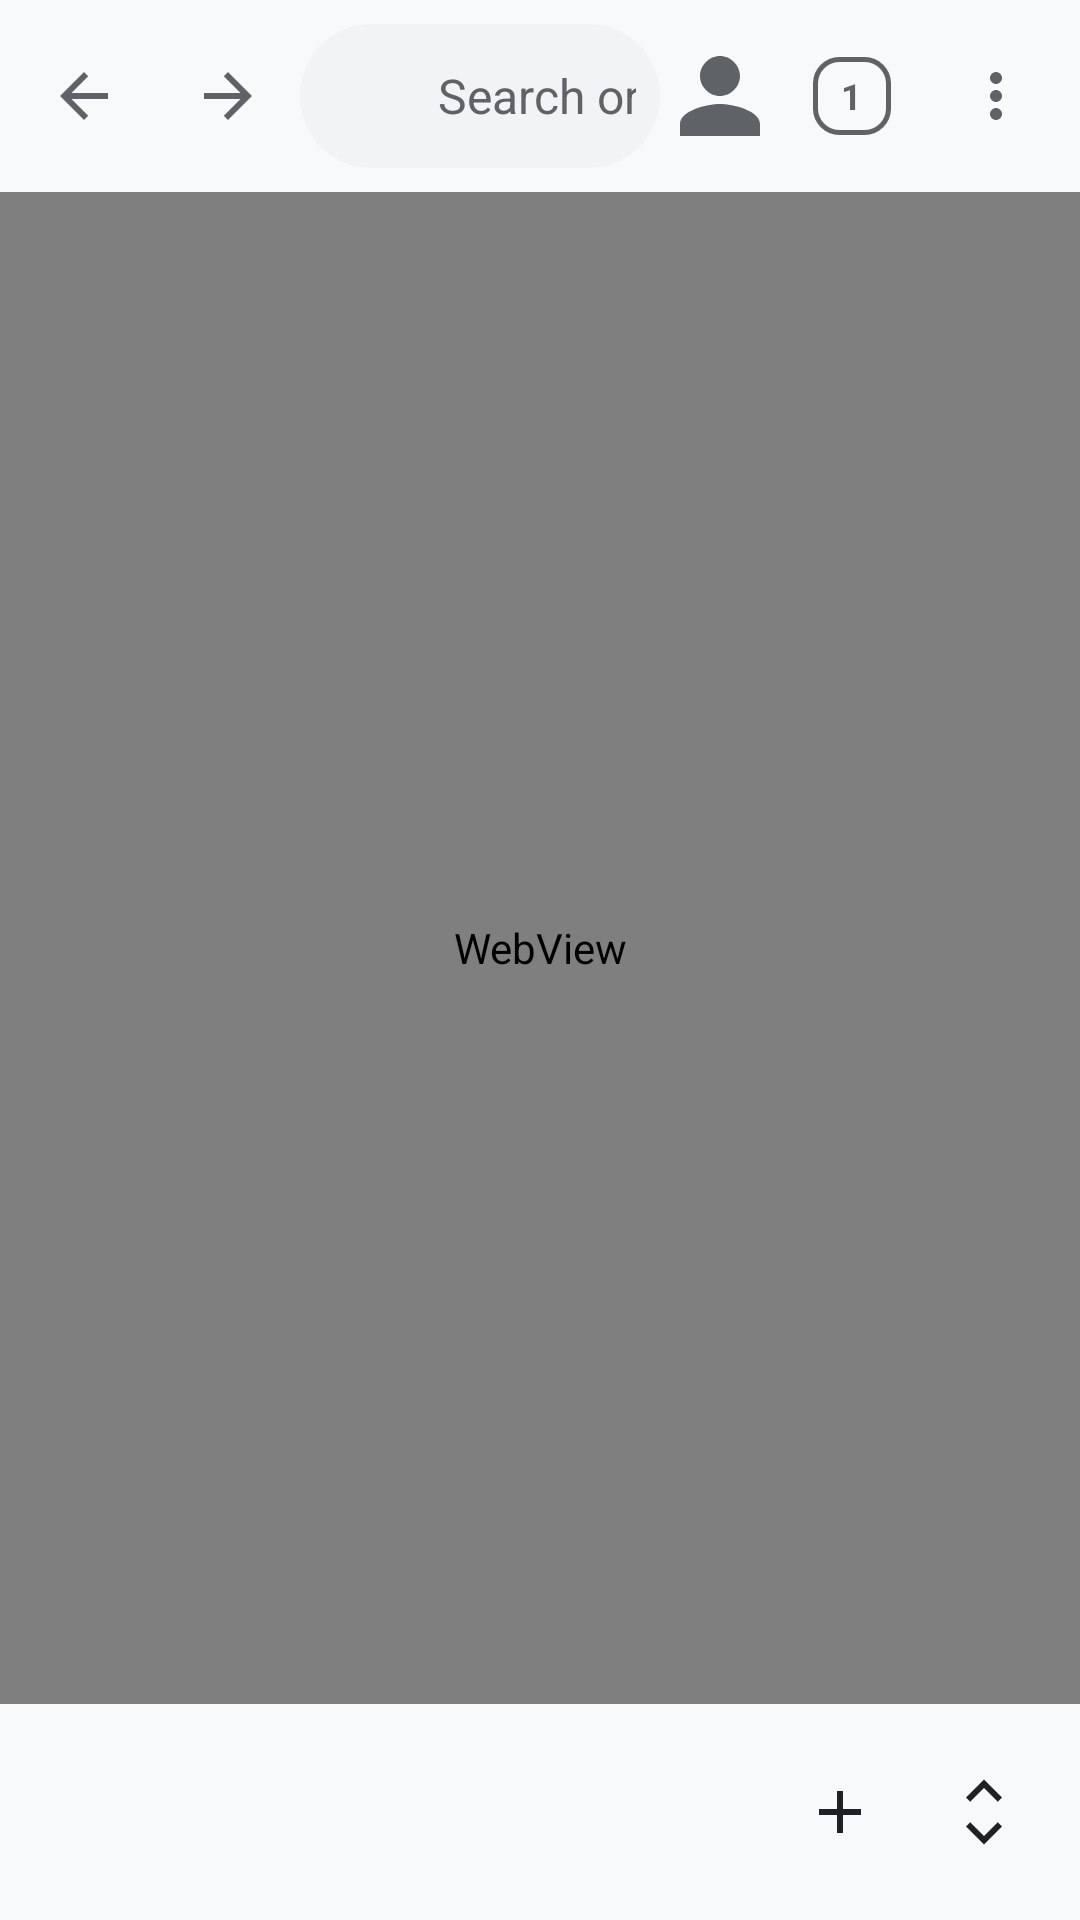

Locate icon controls on the screen. Image size 1080 x 1920, boxes as detection(x1, y1, x2, y2).
Back: detection(60, 72, 108, 120)
Forward: detection(204, 72, 252, 120)
Menu: detection(990, 72, 1002, 120)
New tab: detection(819, 1791, 861, 1833)
Profile: detection(680, 56, 760, 136)
